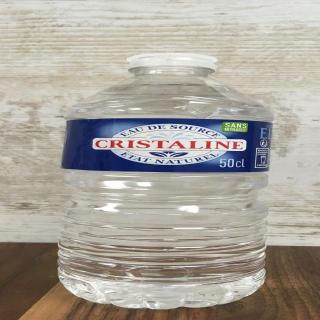Plastic-bottle: (51, 48, 281, 314)
